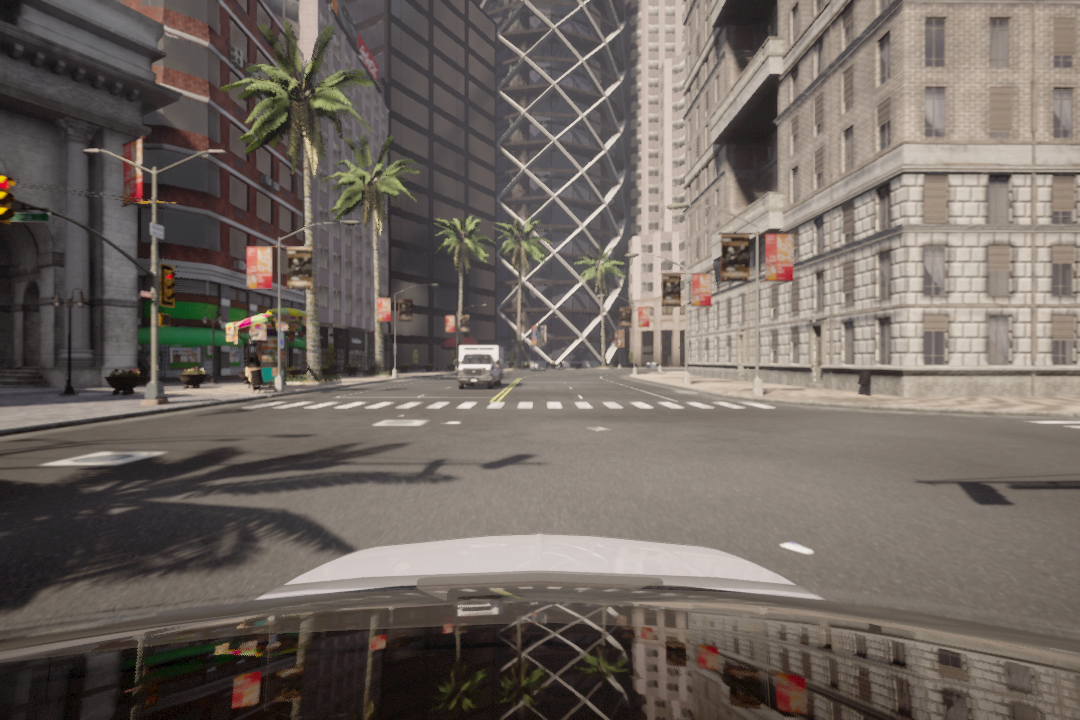TrafficLight: (1, 176, 16, 221), (160, 265, 174, 305)
walkside: (238, 395, 776, 417)
